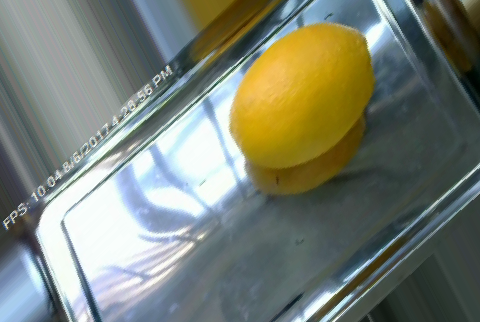Orange: (229, 21, 373, 168)
